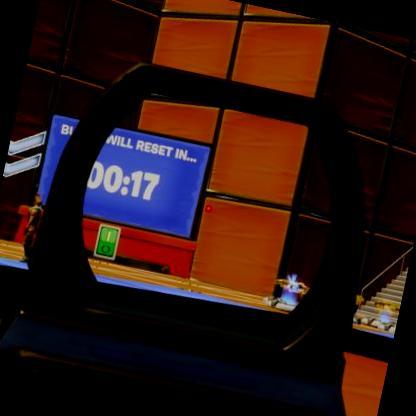person: (13, 194, 46, 262)
